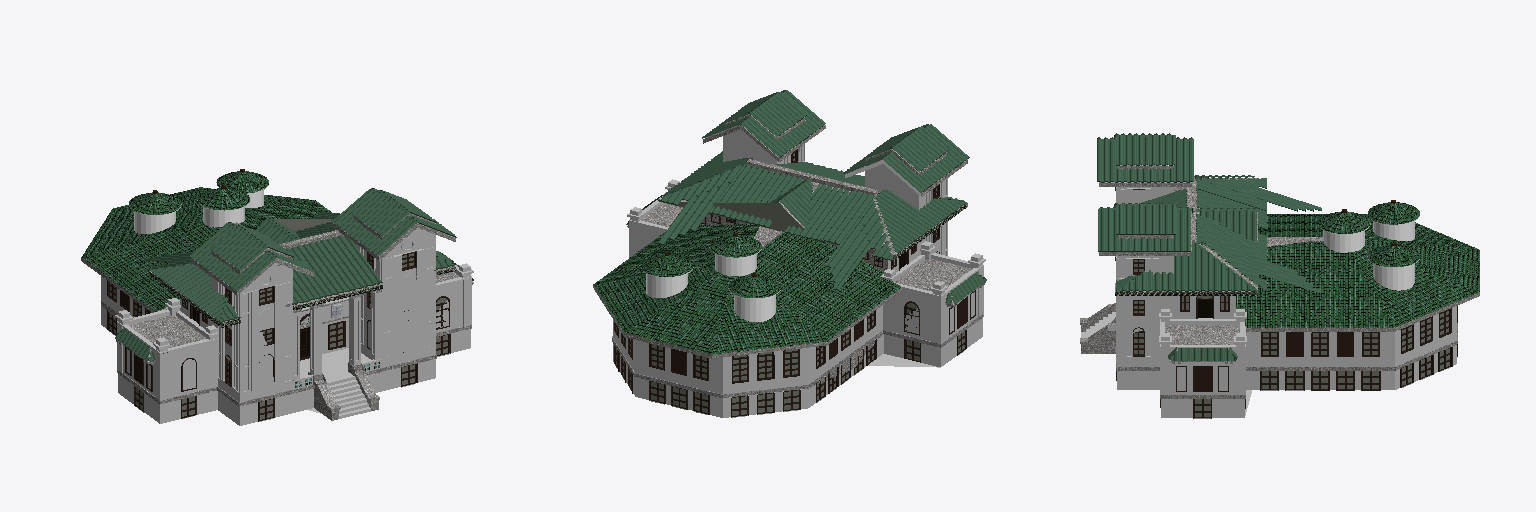
3 renders of one model, left to right at view 1: azimuth 30°, elevation 25°; view 2: azimuth 150°, elevation 25°; view 3: azimuth 270°, elevation 25°, orthographic.
Visible parts, largest first — view 1: 怀仕堂主体; view 2: 怀仕堂主体; view 3: 怀仕堂主体.
Boxes of the visible parts, x1,y1,x2,y2 form: 怀仕堂主体: [81, 169, 473, 425]; 怀仕堂主体: [593, 90, 986, 417]; 怀仕堂主体: [1080, 133, 1479, 418].
Bounding box in the file's own units: 16.16 × 8.18 × 16.93.
23 materials, 8 textured.